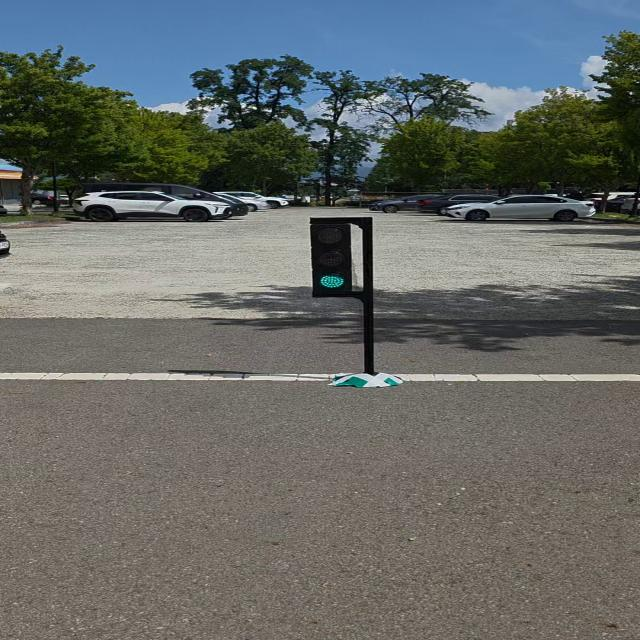green: (311, 223, 353, 295)
